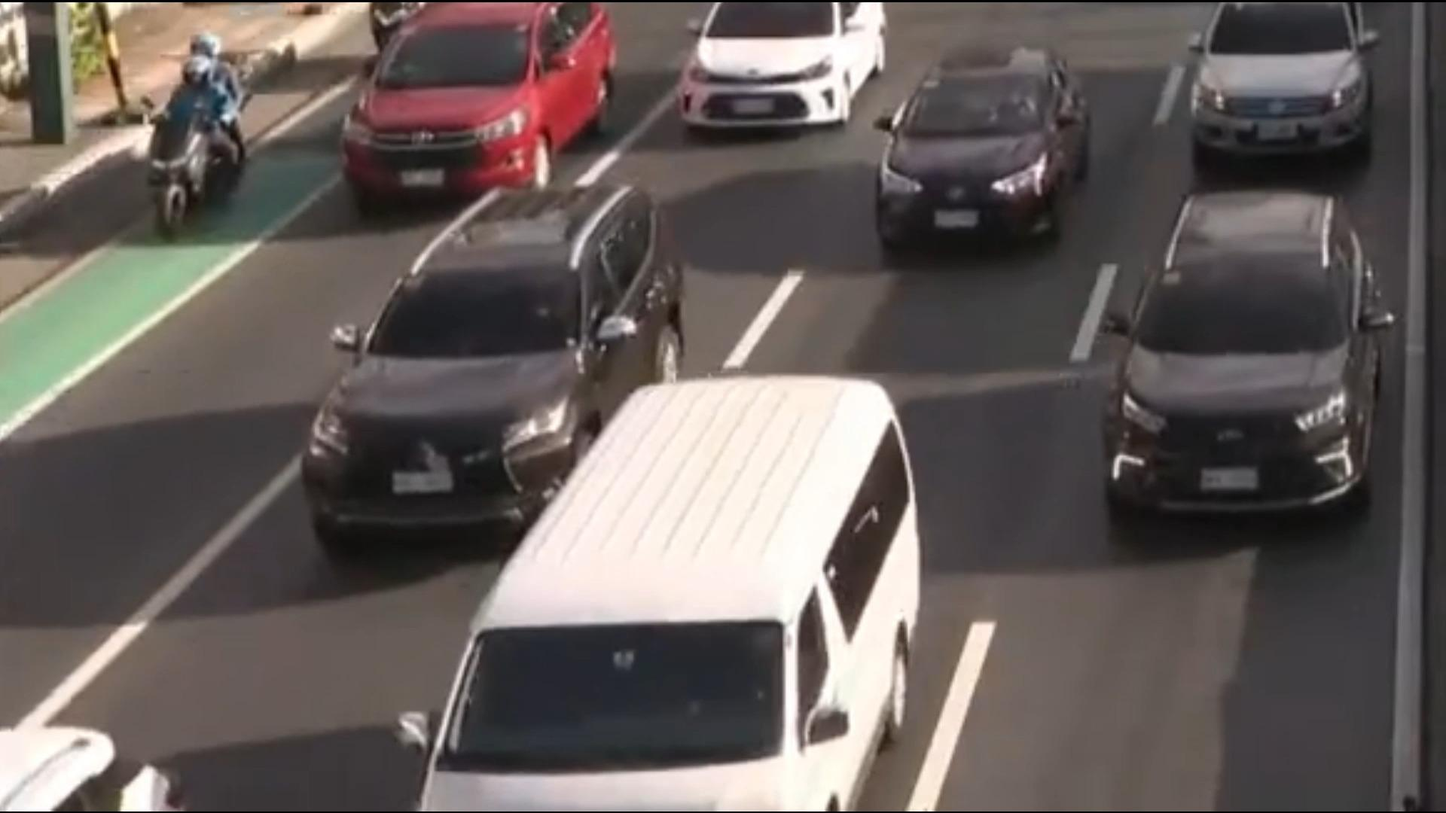Motorcycle: (136, 32, 249, 239)
SUV: (307, 190, 680, 536), (1100, 188, 1382, 527), (345, 0, 616, 194), (1192, 0, 1369, 156)
Sedan: (879, 56, 1086, 250), (670, 0, 896, 134)
Van: (403, 380, 924, 813)
